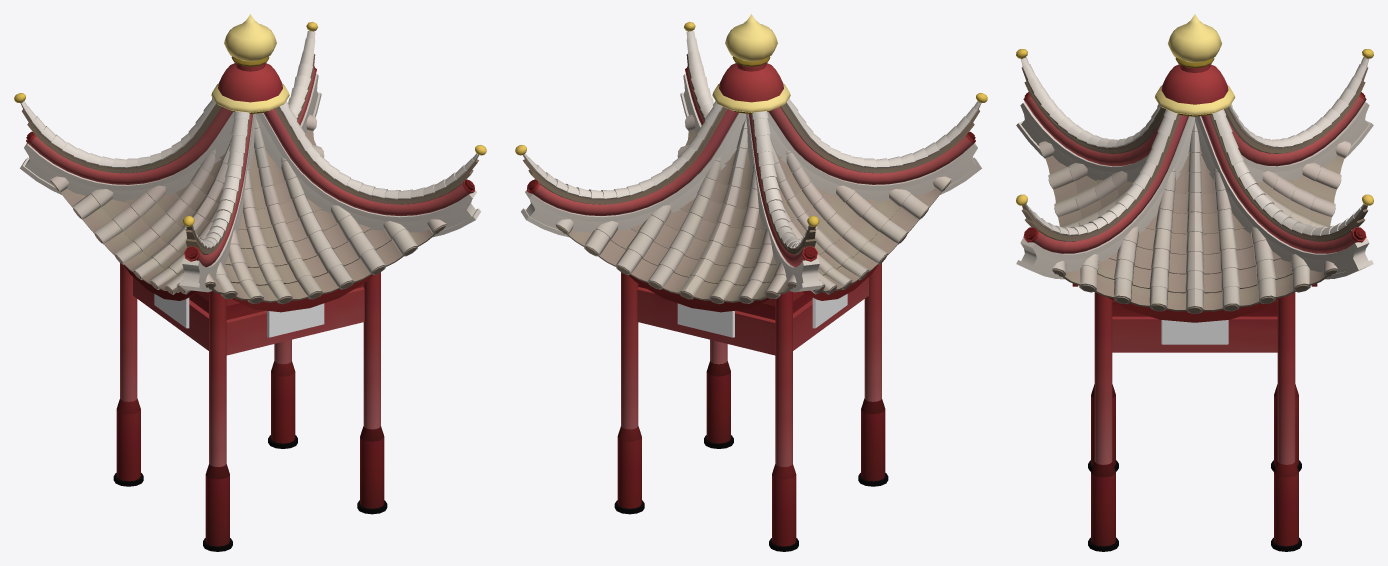
File: M_Gazeebo_01.fbx
3 views of the same model, side by side, from view 1: azimuth 30°, elevation 25°; view 2: azimuth 150°, elevation 25°; view 3: azimuth 270°, elevation 25° (orthographic). The views are drawn at different scales.
Visible parts, largest first — view 1: M_Gazeebo_01; view 2: M_Gazeebo_01; view 3: M_Gazeebo_01.
Part boxes in pixels (box(x1,y1,x2,y2)): M_Gazeebo_01: box(14, 14, 486, 551); M_Gazeebo_01: box(515, 14, 987, 551); M_Gazeebo_01: box(1016, 14, 1373, 551).
Size of the model in its own units: 615 by 935 by 615.
Materials: 1 (1 with a texture image).
